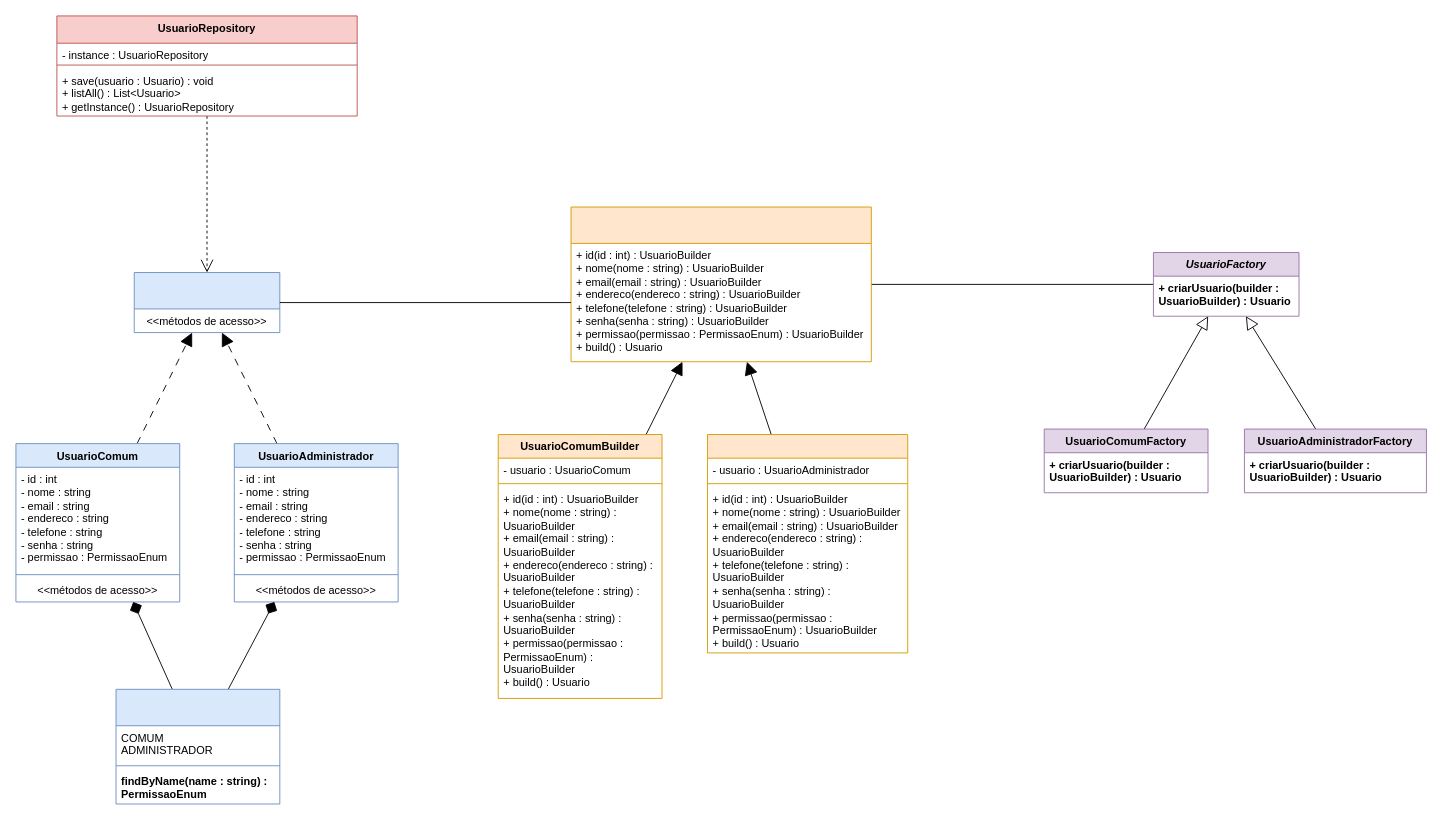
Some shapes in this 1442 by 823 pixel diagram are drawn without their labels. The shapes that lost their labels are listed below. From the top down, each one's box as (x1, y1, x2, y2) in pixels, then its label:
(133, 272, 280, 333): <<interface>> Usuario
(570, 206, 871, 362): <<interface>> UsuarioBuilder
(707, 434, 908, 653): UsuarioAdministradorBuilder
(115, 688, 280, 804): <<Enum>> PermissaoEnum
